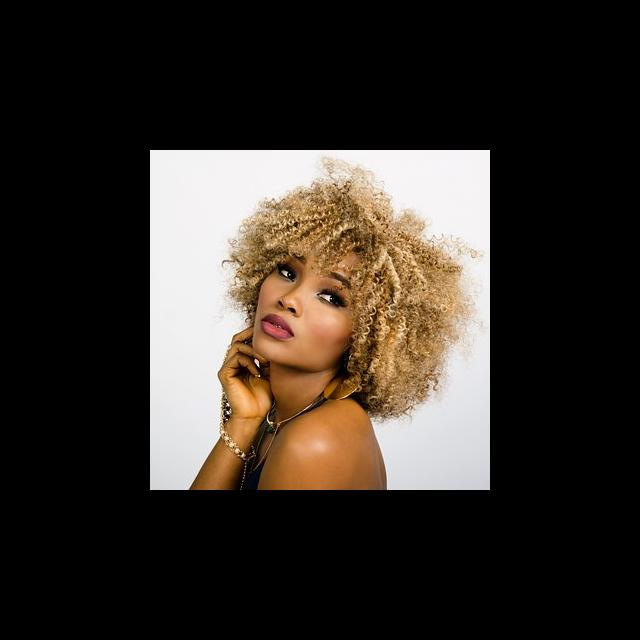female: (200, 164, 443, 396)
